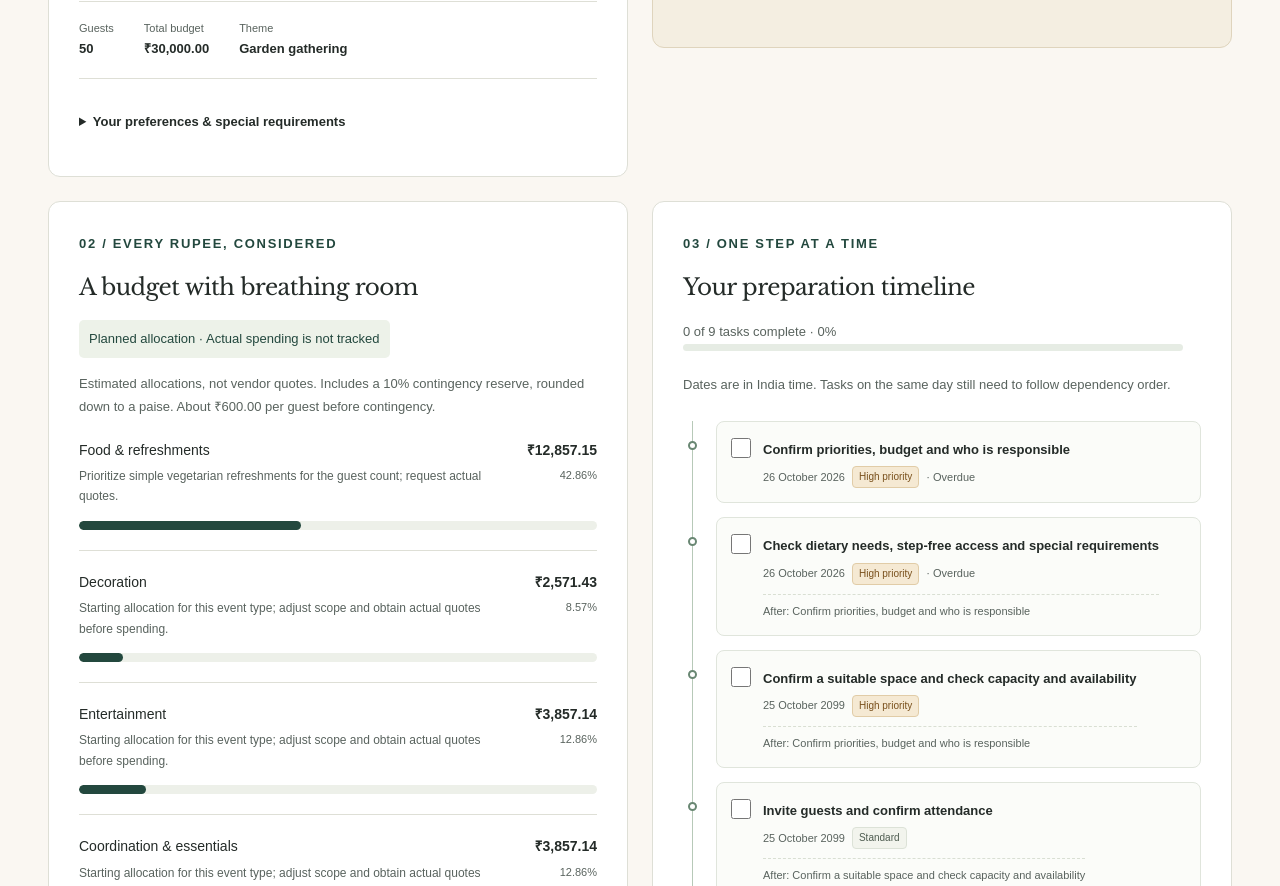
Test: interactive planning dashboard › tracks task completion and vendor status and saves them
(page scrolled)
Click the 1st checkbox.
click(741, 448)  # box x1=731 y1=438 x2=751 y2=458
(page scrolled)
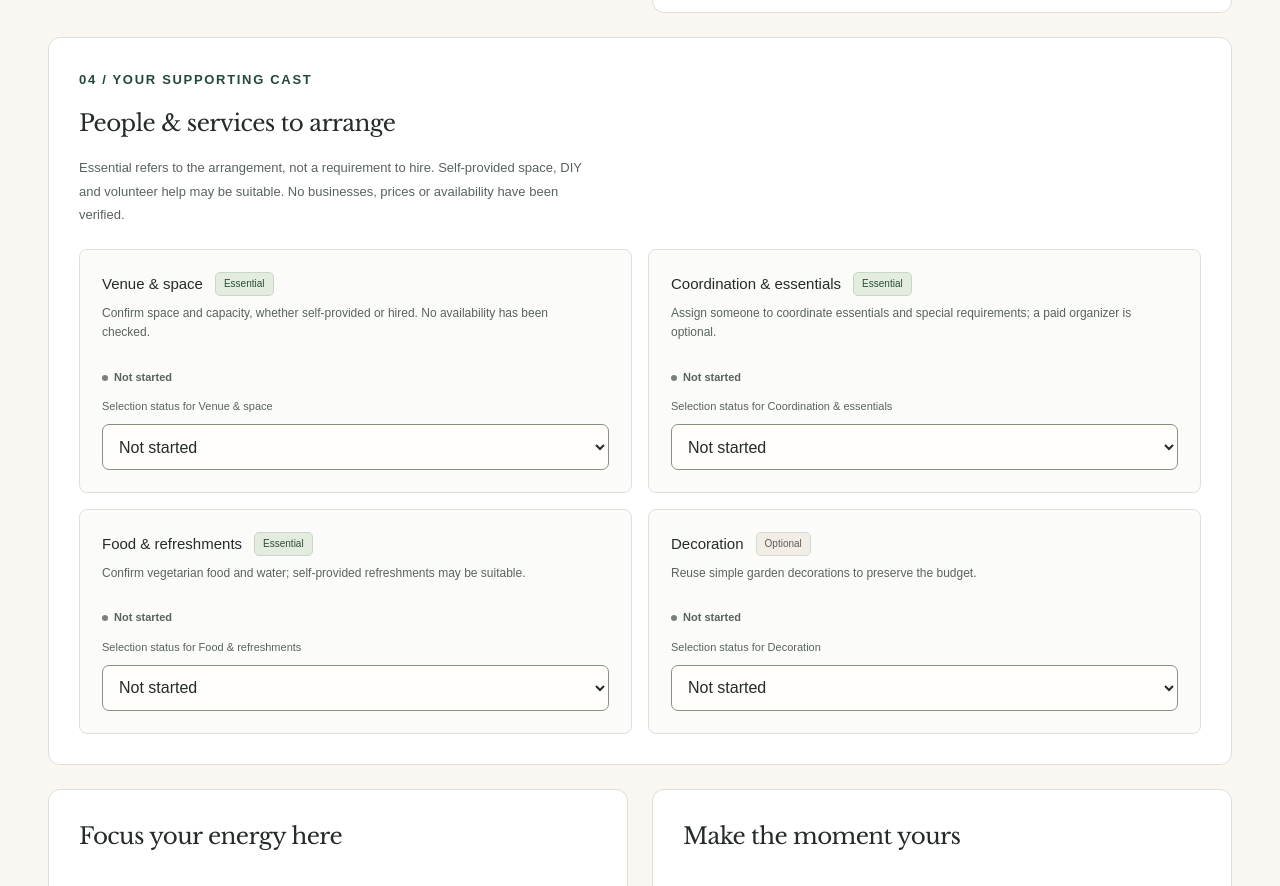
Select "Booked / arranged" in the dropdown labelled "Selection status for Venue & space" at (356, 447), box x1=102 y1=424 x2=609 y2=470
(page scrolled)
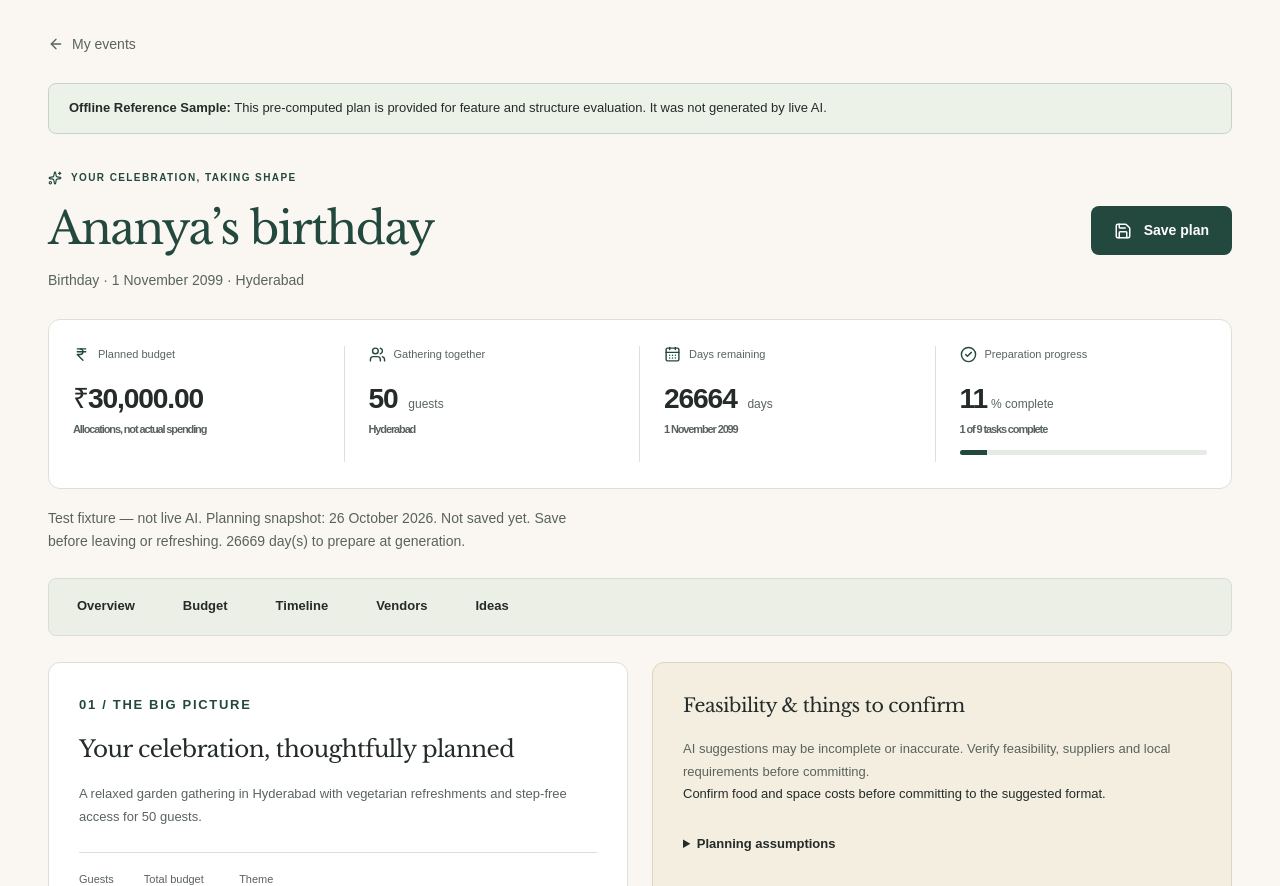
Click the button "Save plan".
click(1161, 231)  # box x1=1091 y1=206 x2=1232 y2=255
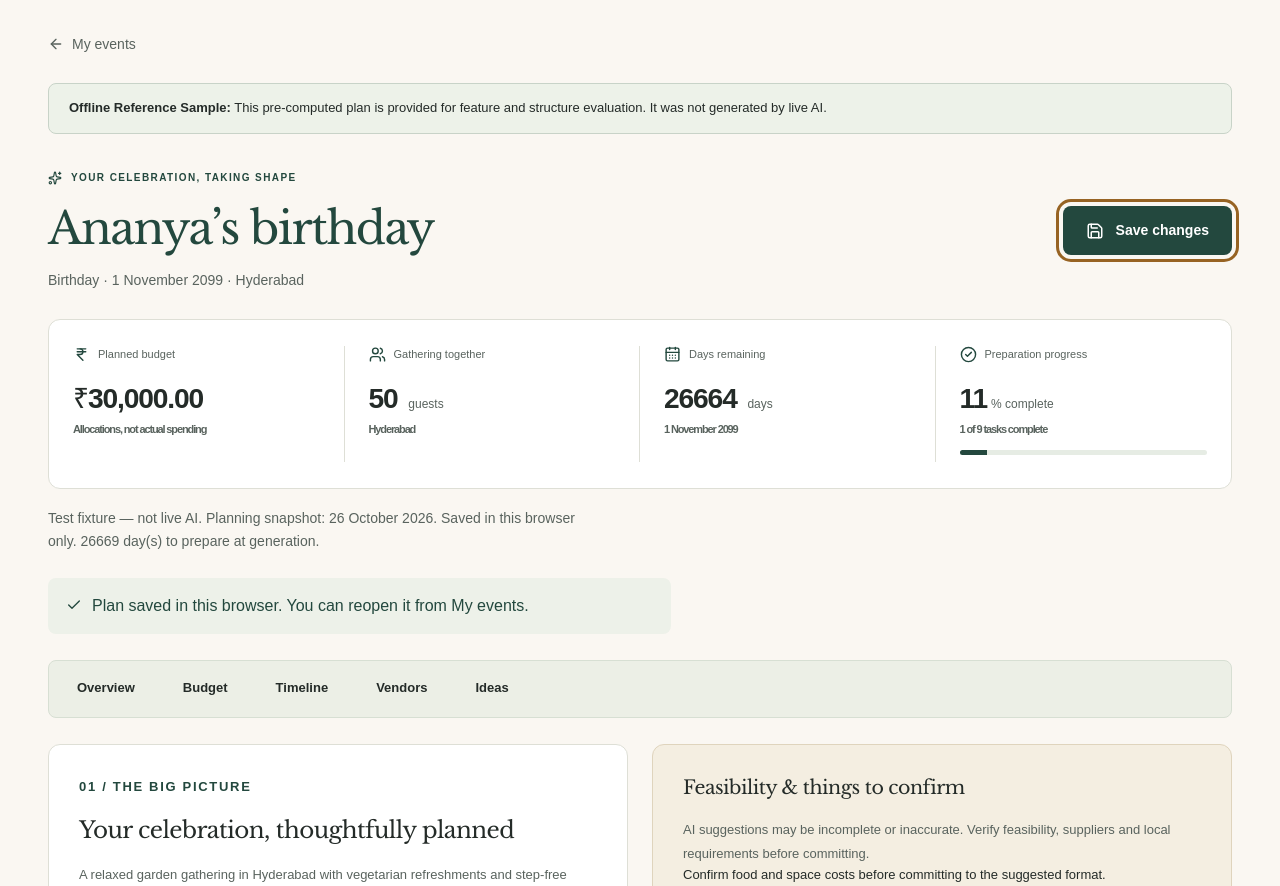
Result: the message shows "Plan saved" at x1=92 y1=597 x2=529 y2=614
